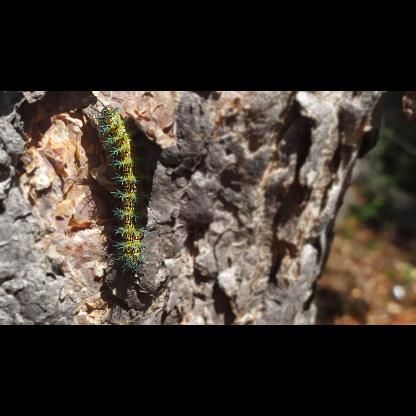oruga: (92, 105, 138, 275)
